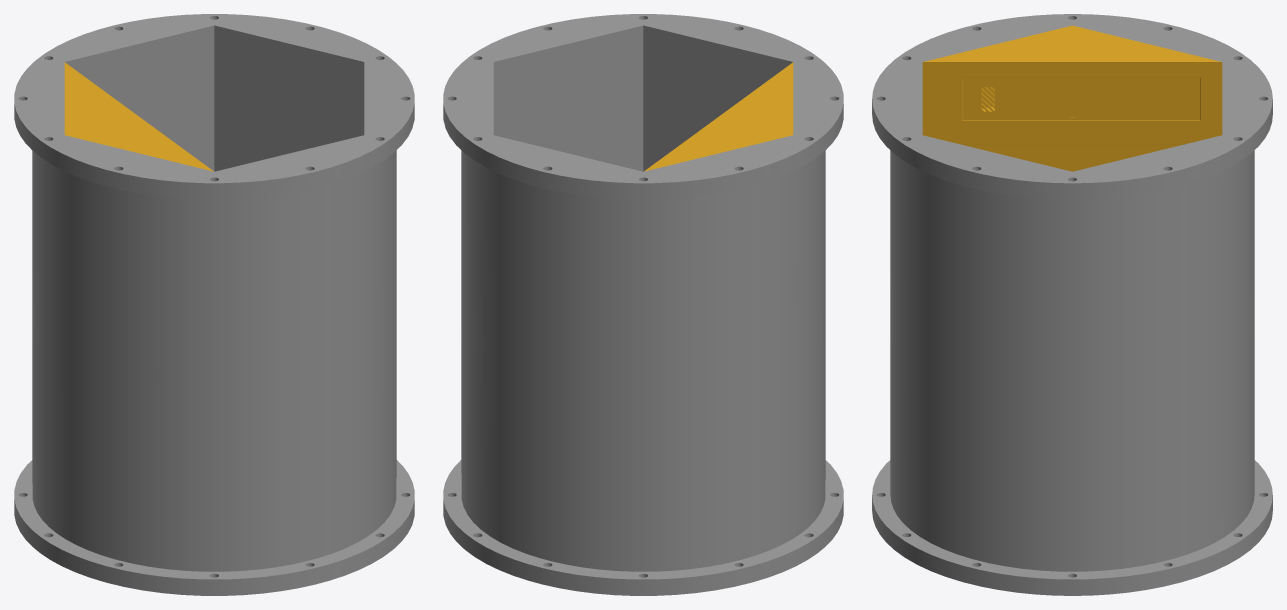
Rendered from Storage_Unit v14.fbx.
3 renders of one model, left to right at view 1: azimuth 30°, elevation 25°; view 2: azimuth 150°, elevation 25°; view 3: azimuth 270°, elevation 25°, orthographic.
Visible parts, largest first — view 1: Body1, Body2; view 2: Body1, Body2; view 3: Body1, Body2.
Boxes of the visible parts, x1,y1,x2,y2 form: Body1: (14, 14, 414, 595); Body2: (64, 62, 213, 171); Body1: (443, 14, 843, 595); Body2: (644, 62, 793, 171); Body1: (872, 14, 1272, 595); Body2: (922, 25, 1222, 171).
Bounding box in the file's own units: 4.4 × 5 × 4.4.
